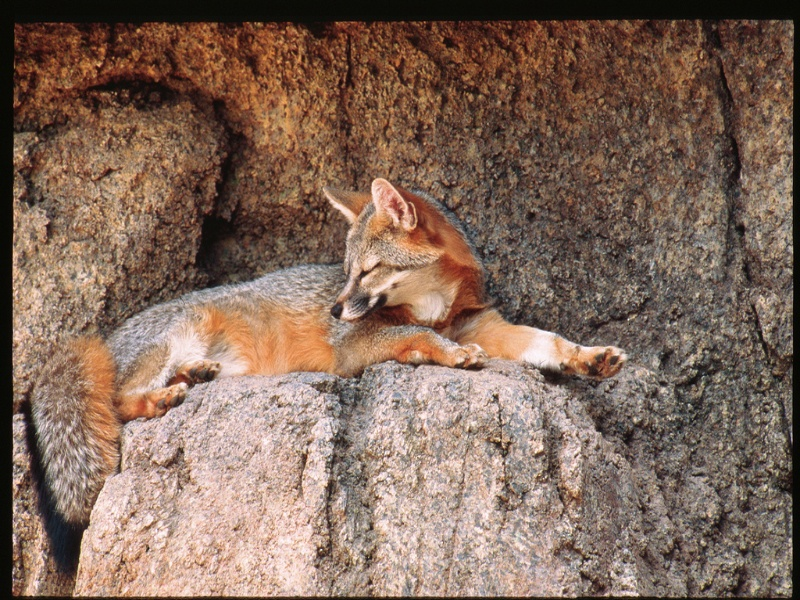fox: (32, 177, 630, 521)
